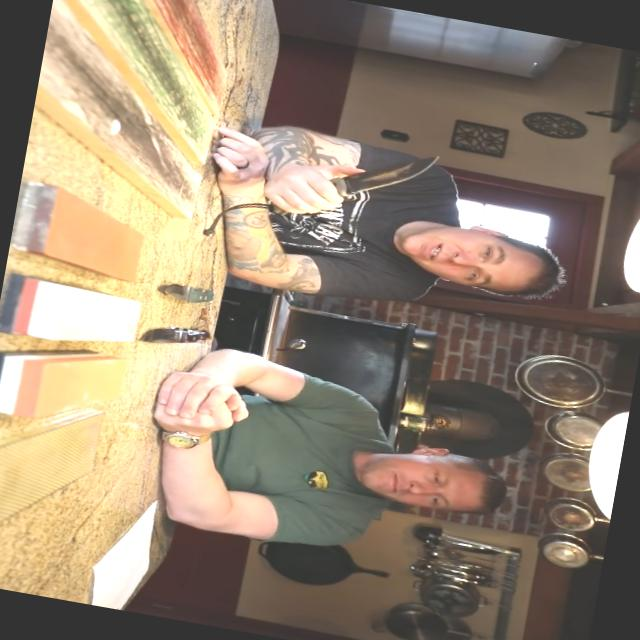knife: (292, 127, 456, 240)
